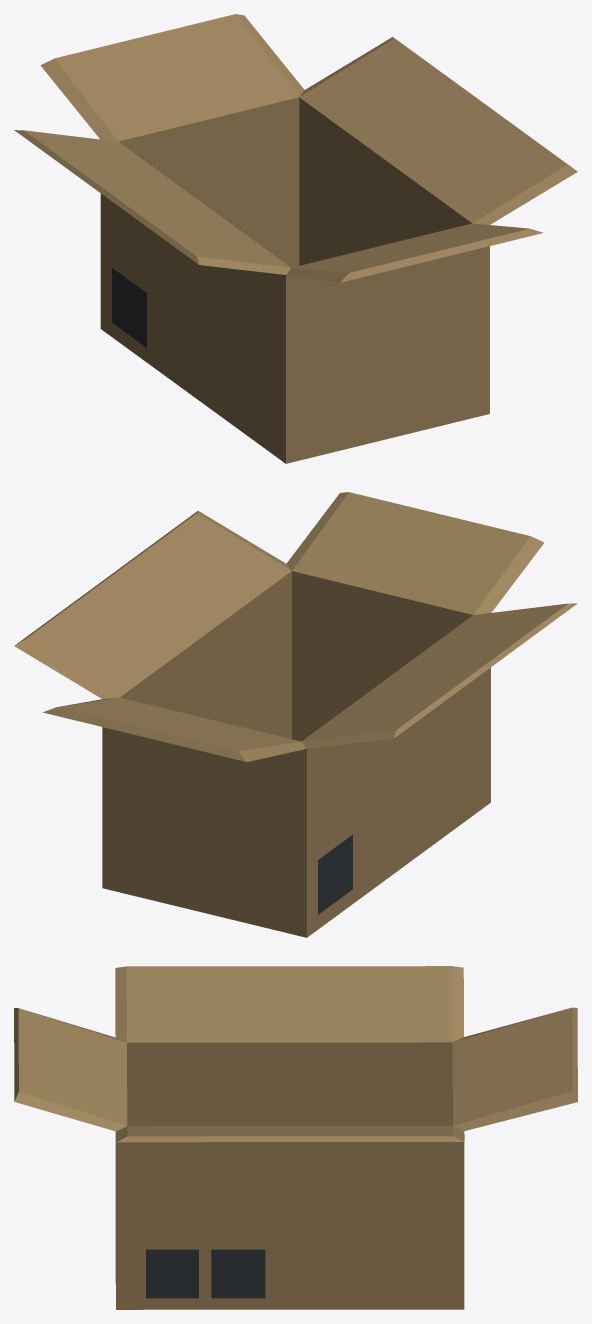
File: SM_Prop_CardboardBox_03.obj
The picture shows the model from 3 angles, top to bottom: view 1: azimuth 30°, elevation 25°; view 2: azimuth 150°, elevation 25°; view 3: azimuth 270°, elevation 25°; orthographic projection. The views are drawn at different scales.
Visible parts, largest first — view 1: SM_Prop_CardboardBox_03_M_PolygonOffice_01_A; view 2: SM_Prop_CardboardBox_03_M_PolygonOffice_01_A; view 3: SM_Prop_CardboardBox_03_M_PolygonOffice_01_A.
Boxes of the visible parts, x1,y1,x2,y2 form: SM_Prop_CardboardBox_03_M_PolygonOffice_01_A: (14, 14, 577, 463); SM_Prop_CardboardBox_03_M_PolygonOffice_01_A: (14, 492, 577, 937); SM_Prop_CardboardBox_03_M_PolygonOffice_01_A: (14, 966, 577, 1309).
Bounding box in the file's own units: 0.6094 × 0.3461 × 0.8301.
1 material, 1 textured.
